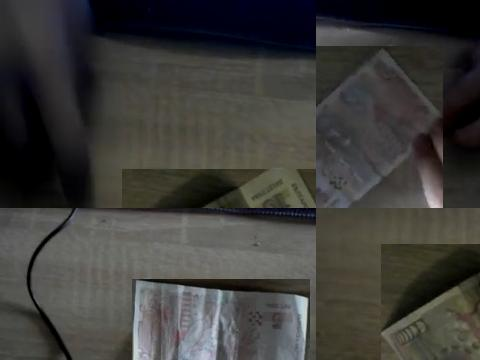10leva: (381, 269, 480, 360)
5leva: (316, 46, 443, 208), (133, 279, 310, 360)
